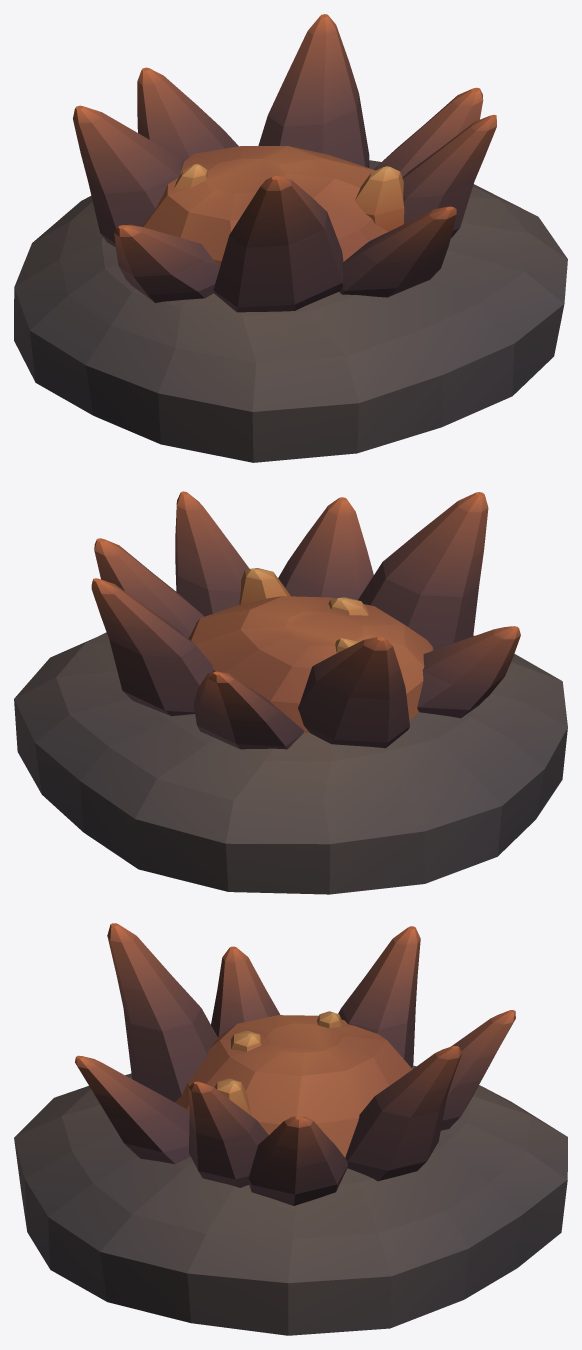
The model's file is emberstone.glb.
3 views of the same model, one above another, from view 1: azimuth 30°, elevation 25°; view 2: azimuth 150°, elevation 25°; view 3: azimuth 270°, elevation 25° (orthographic).
Parts seen in each view (by area): view 1: Emberstone outcrop; view 2: Emberstone outcrop; view 3: Emberstone outcrop.
Part boxes in pixels (x1=…): Emberstone outcrop: x1=14, y1=14, x2=567, y2=462; Emberstone outcrop: x1=14, y1=491, x2=567, y2=894; Emberstone outcrop: x1=14, y1=923, x2=567, y2=1335.
Bounding box in the file's own units: 1.9 × 0.957 × 1.88.
